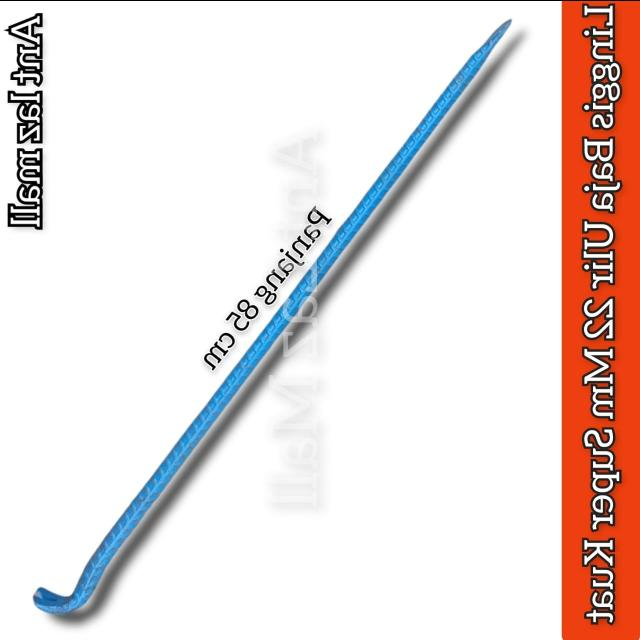Linggis: (33, 21, 525, 621)
